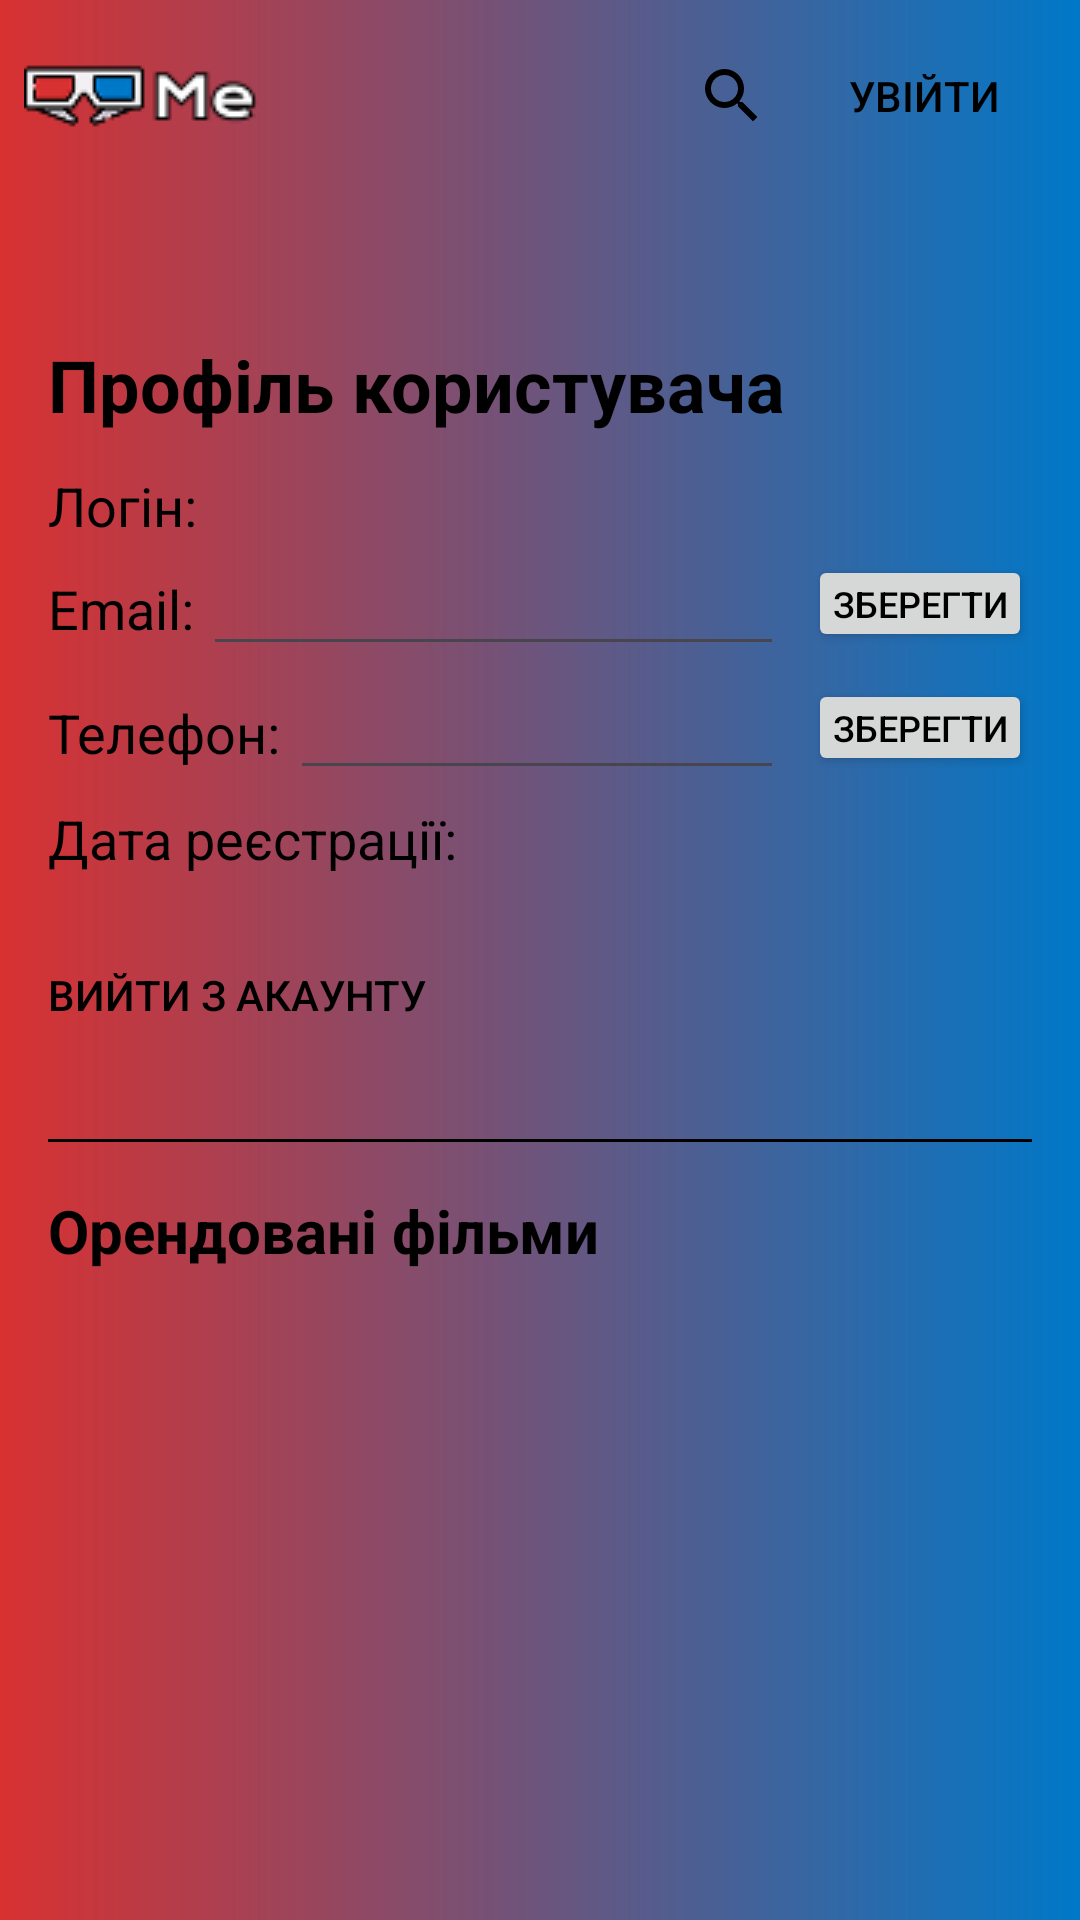

Screen size 1080px x 1920px. Icon name, then its center in pixels as point (x, y):
Іконка пошуку: point (731, 95)
